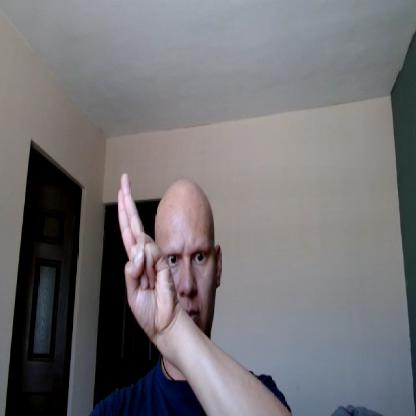U: (117, 172, 175, 339)
